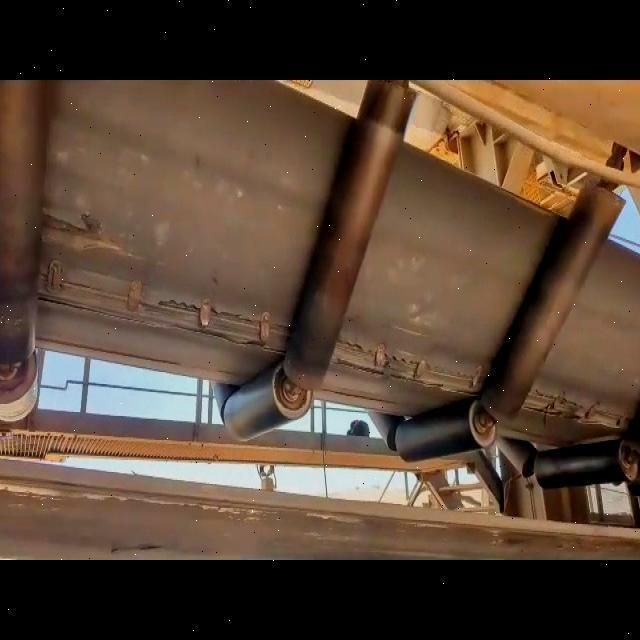Tear: (34, 258, 292, 356), (330, 327, 487, 401), (526, 381, 632, 434)
Wear: (36, 198, 142, 269)
